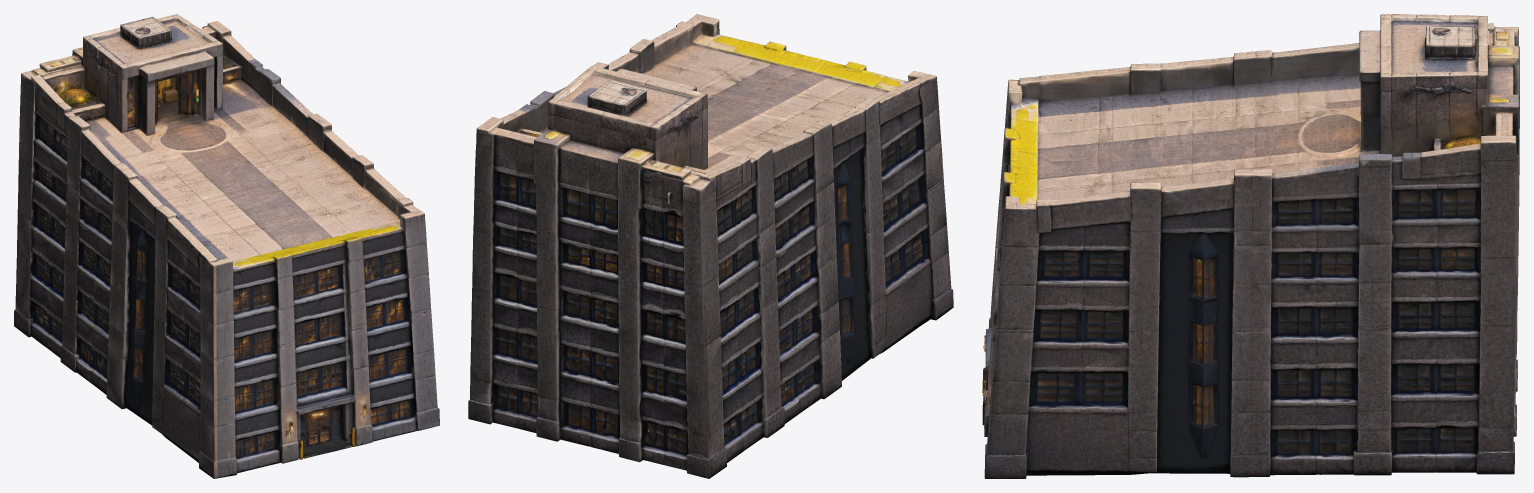
The model's file is roof-05.glb.
3 views of the same model, side by side, from view 1: azimuth 30°, elevation 25°; view 2: azimuth 150°, elevation 25°; view 3: azimuth 270°, elevation 25° (orthographic). The views are drawn at different scales.
Parts seen in each view (by area): view 1: tripo_node_4e51b3e4-9a34-4522-a4af-0d6ee83f4a6f; view 2: tripo_node_4e51b3e4-9a34-4522-a4af-0d6ee83f4a6f; view 3: tripo_node_4e51b3e4-9a34-4522-a4af-0d6ee83f4a6f.
Boxes of the visible parts, left/top/right/bottom form: tripo_node_4e51b3e4-9a34-4522-a4af-0d6ee83f4a6f: left=14, top=14, right=439, bottom=478; tripo_node_4e51b3e4-9a34-4522-a4af-0d6ee83f4a6f: left=468, top=14, right=953, bottom=478; tripo_node_4e51b3e4-9a34-4522-a4af-0d6ee83f4a6f: left=982, top=14, right=1519, bottom=478.
Bounding box in the file's own units: 0.6044 × 0.7581 × 0.9794.
Materials: 1 (1 with a texture image).
